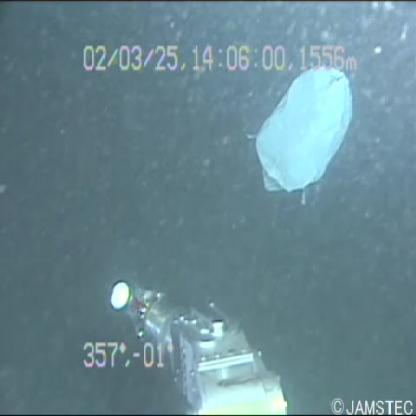Rov: (96, 269, 296, 416)
Rác: (248, 50, 353, 218)
